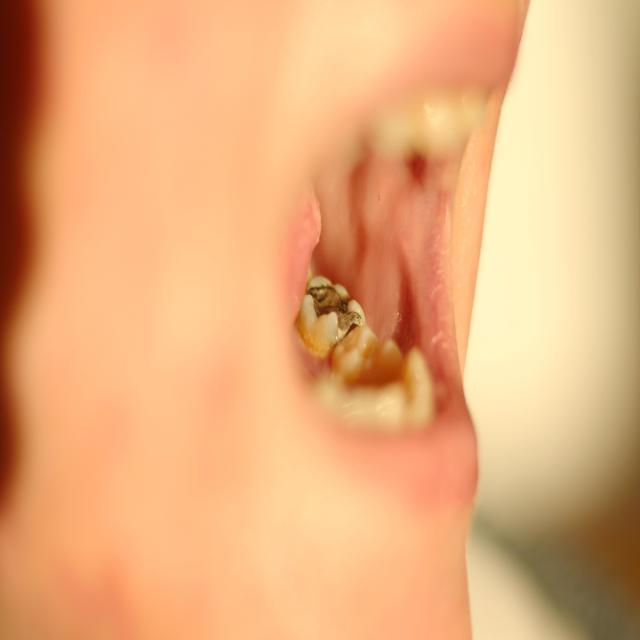Caries: (317, 306, 334, 317), (345, 323, 358, 336), (310, 292, 325, 303), (338, 299, 348, 314), (309, 287, 331, 292)
Tooth: (298, 275, 367, 356)
